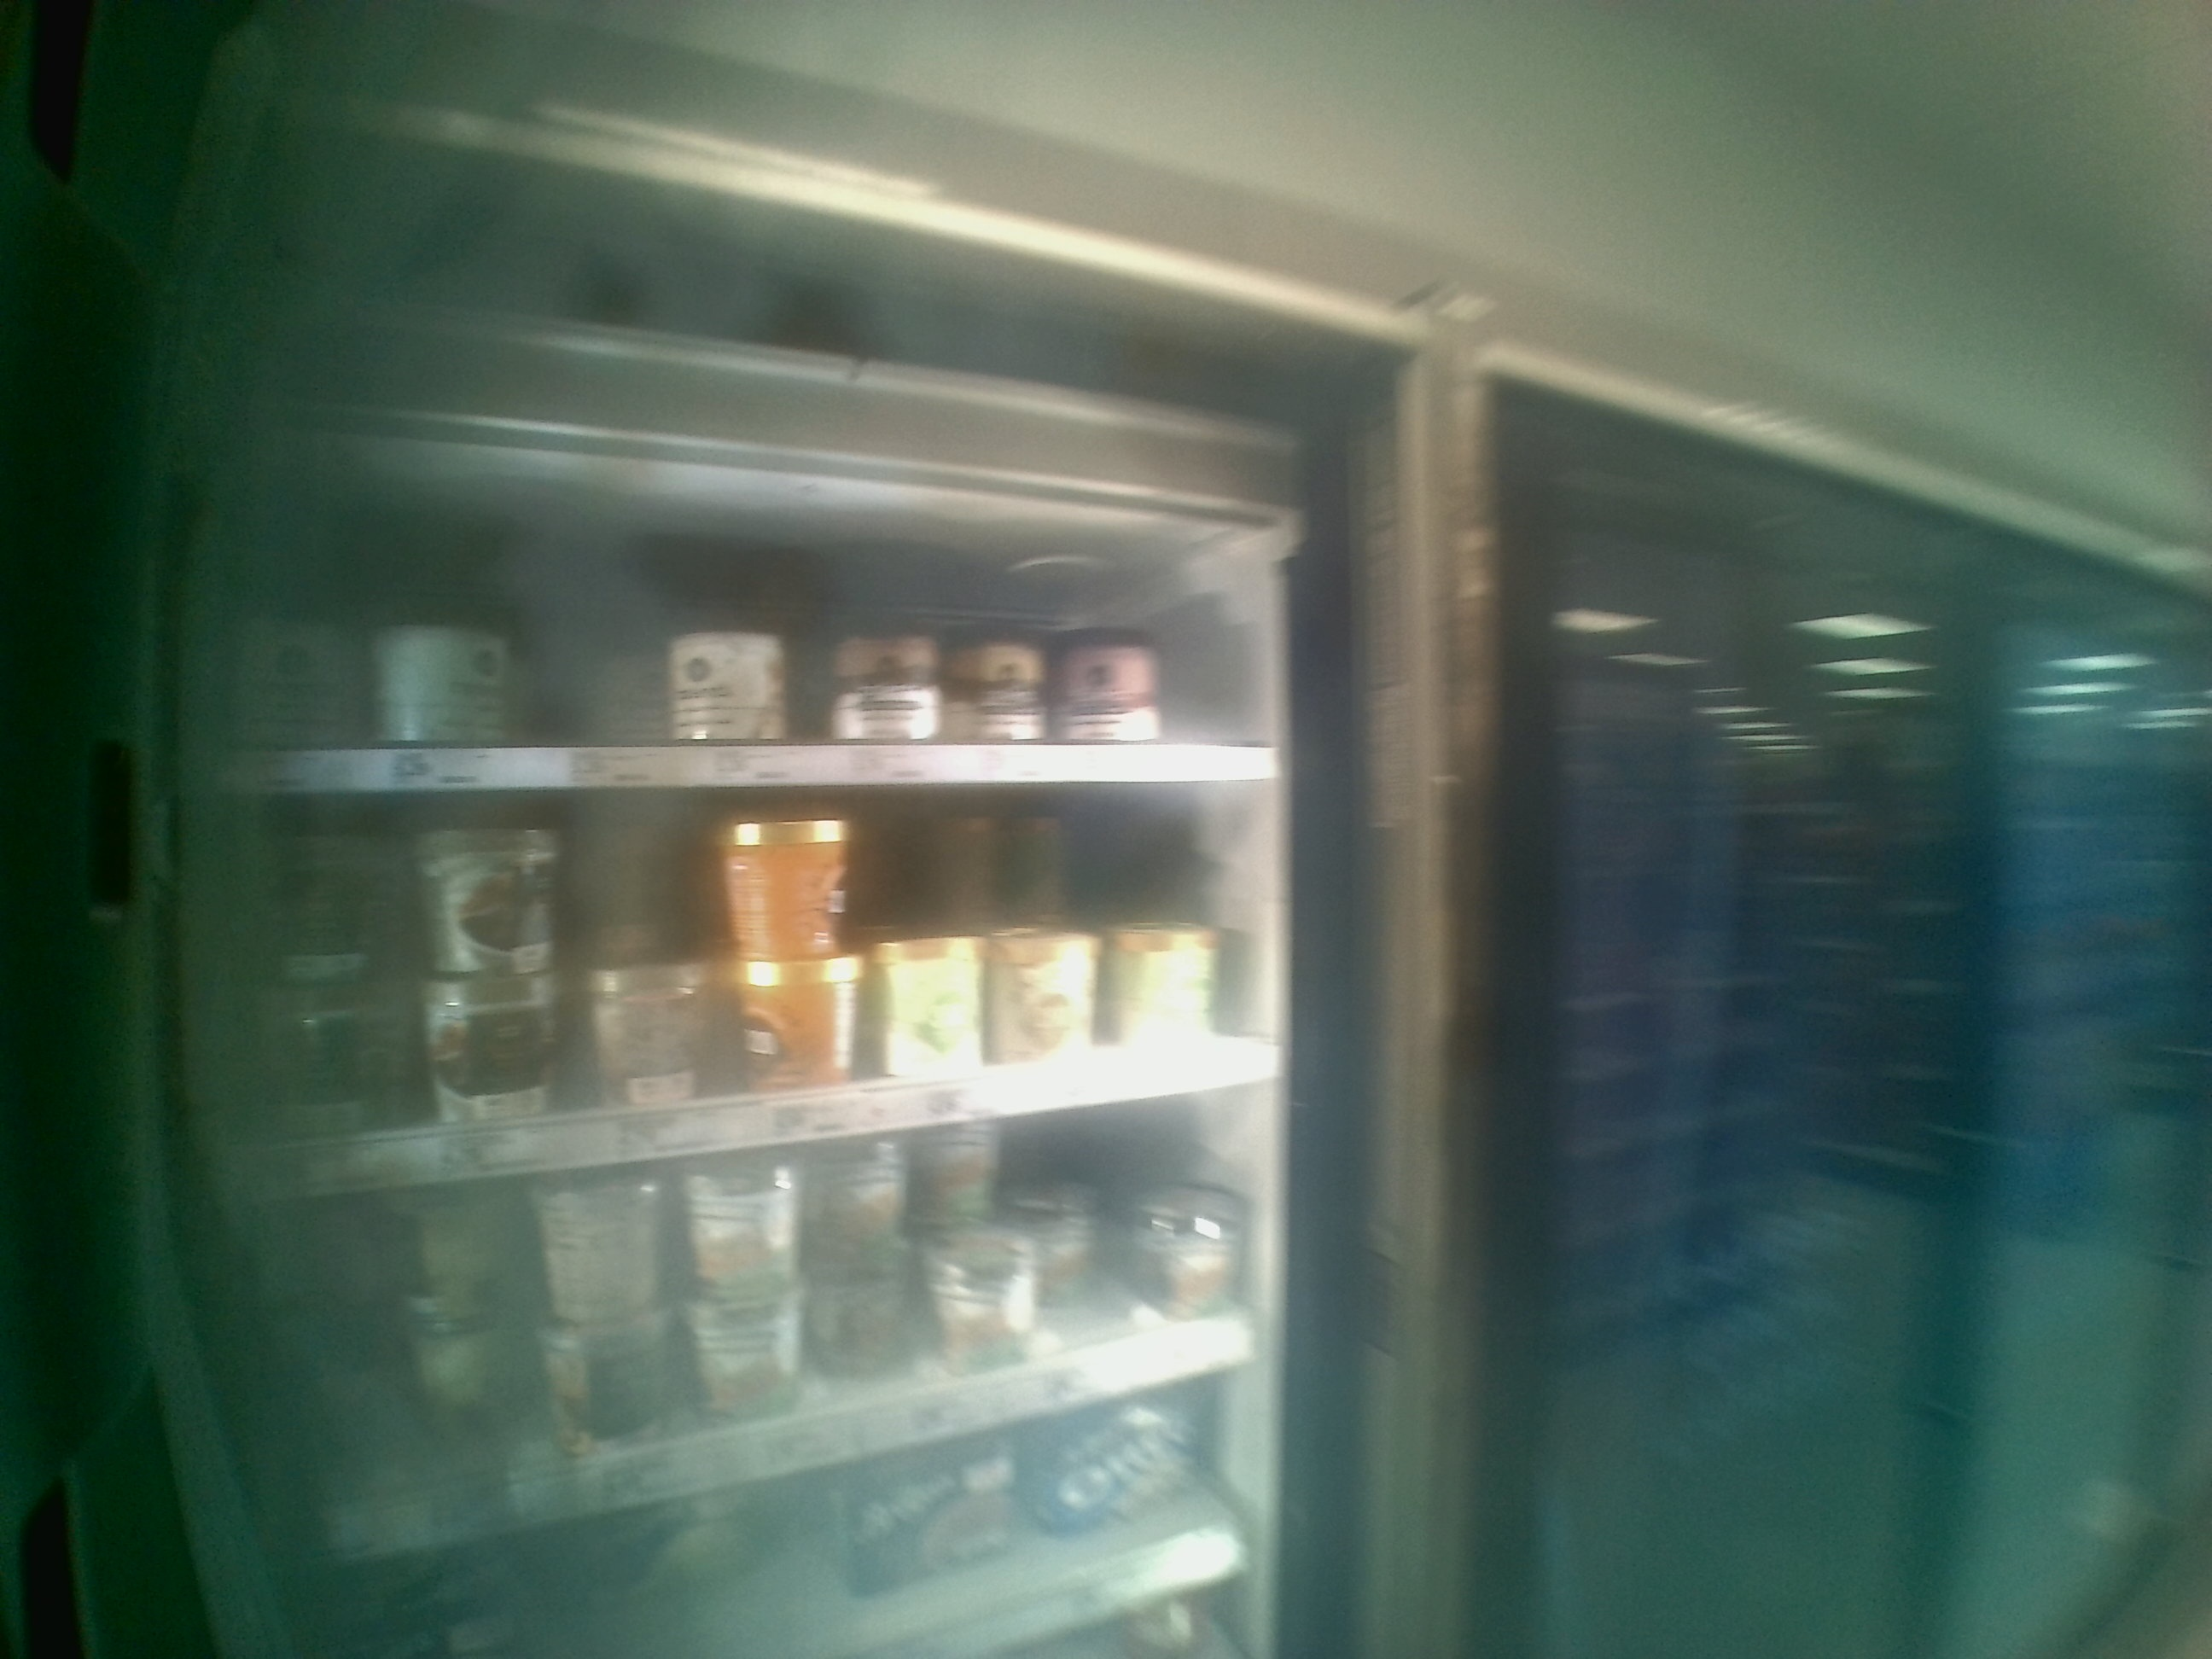shelf: (209, 784, 1282, 1215), (209, 415, 1287, 782)
